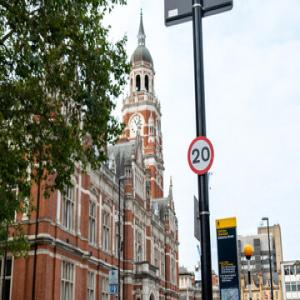speed limit 20: (188, 138, 217, 176)
